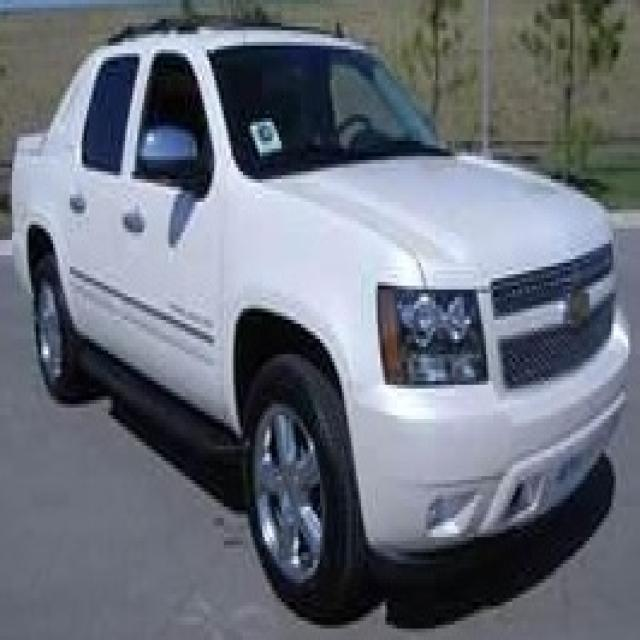CMT: (37, 22, 636, 620)
